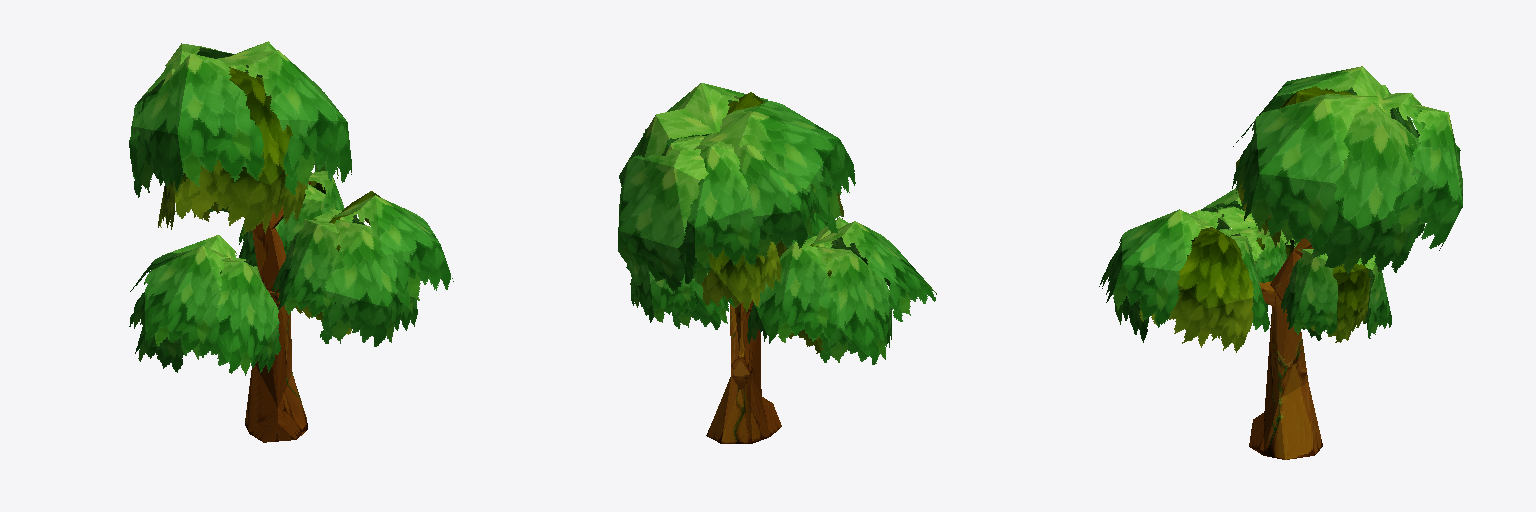
3 views of the same model, side by side, from view 1: azimuth 30°, elevation 25°; view 2: azimuth 150°, elevation 25°; view 3: azimuth 270°, elevation 25° (orthographic).
Visible parts, largest first — view 1: tree02; view 2: tree02; view 3: tree02.
Part boxes in pixels (left/top/right/bottom): tree02: left=129, top=41, right=453, bottom=442; tree02: left=618, top=83, right=936, bottom=443; tree02: left=1099, top=66, right=1462, bottom=459.
Size of the model in its own units: 12.17 by 14.43 by 13.42.
Materials: 1 (1 with a texture image).